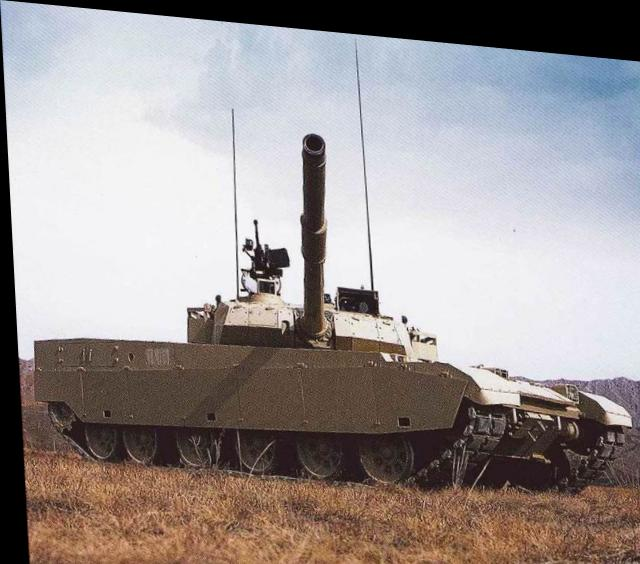tank: (35, 267, 632, 498)
